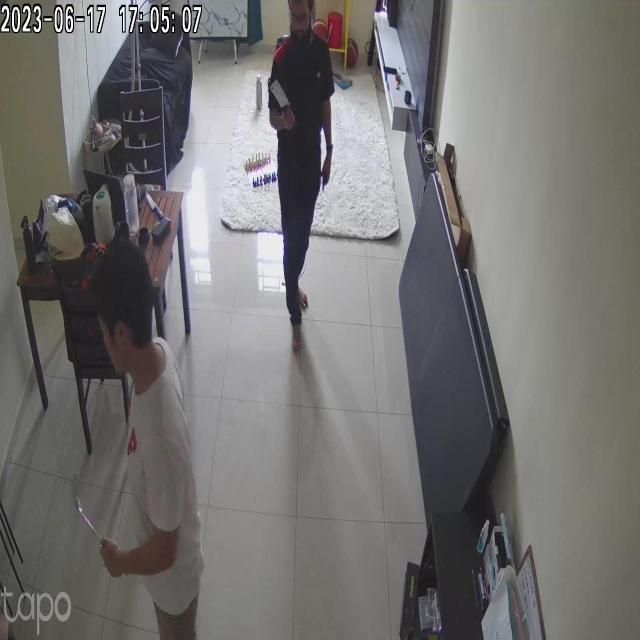Knife: (264, 72, 304, 122)
